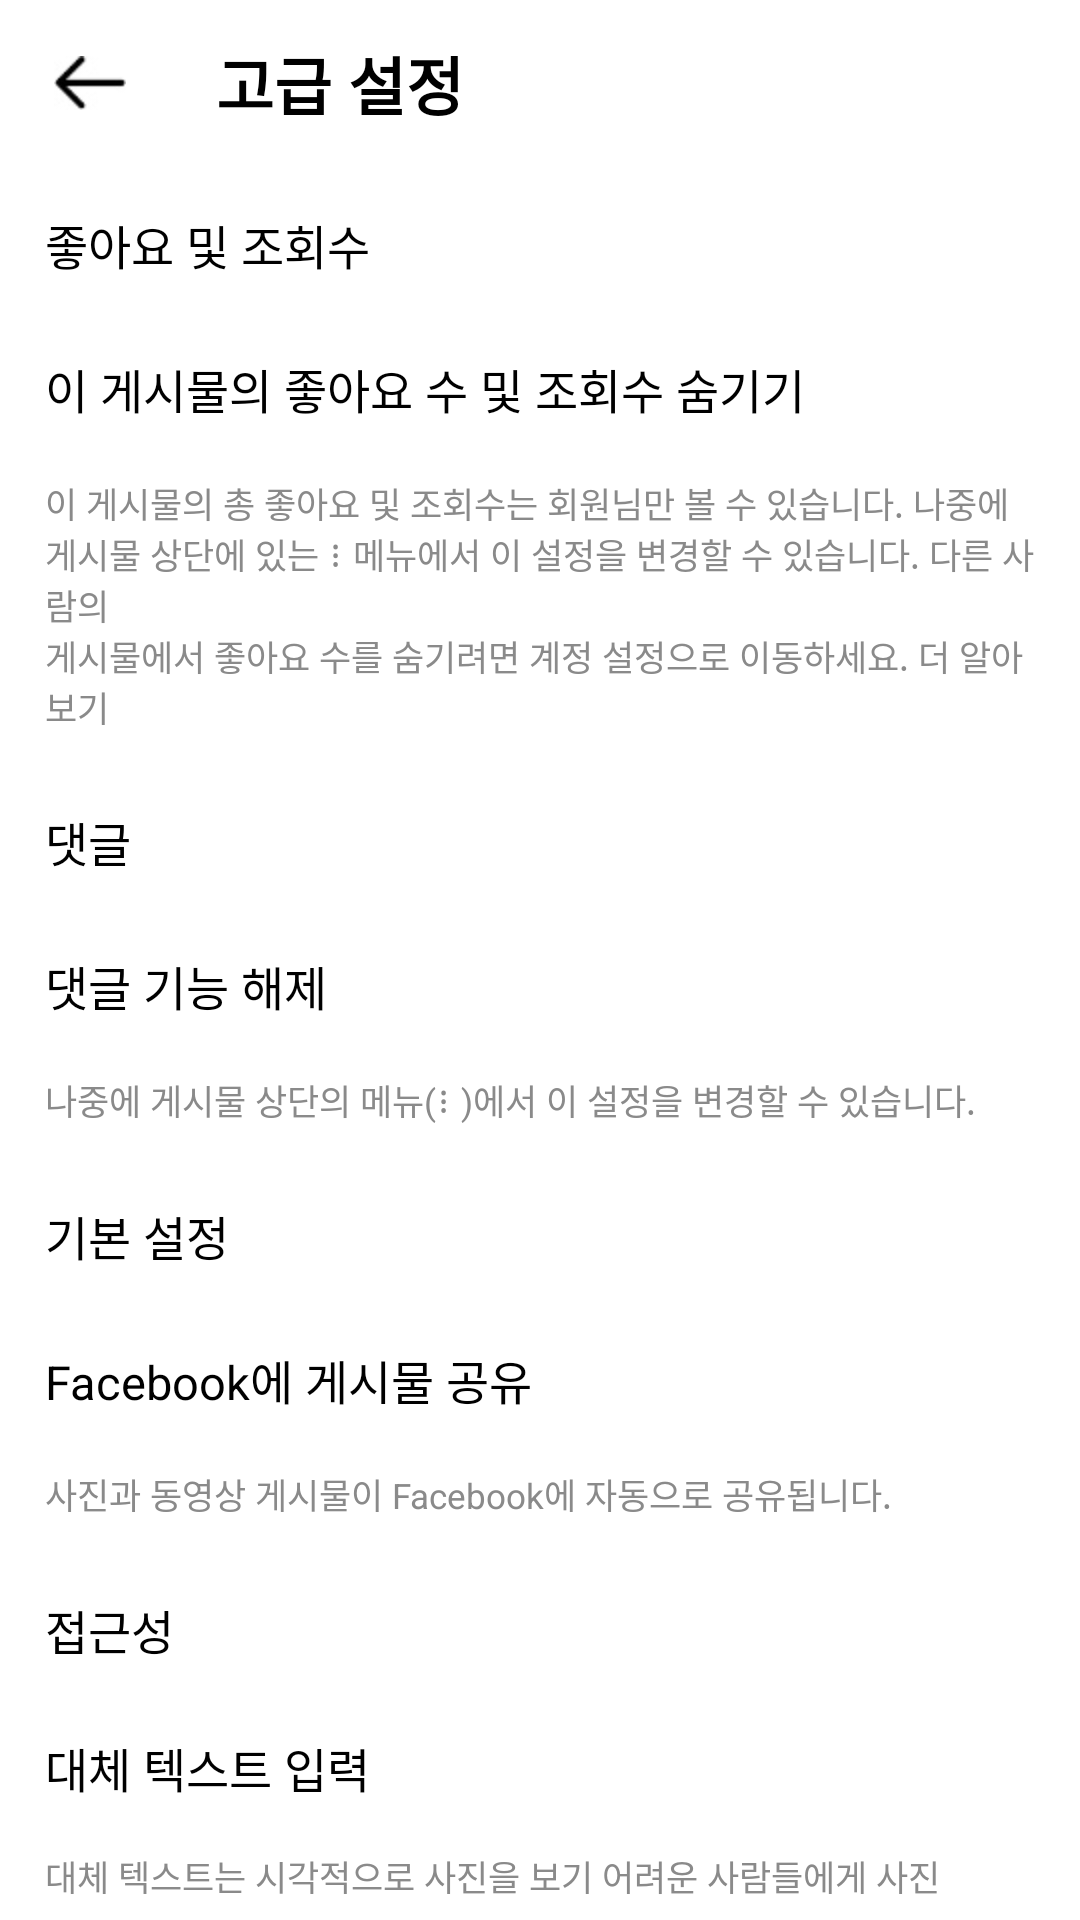

Icon bounding boxes for this 1080*1920 phone screenshot, format rect(x1, y1, x2, y2):
back: rect(54, 56, 126, 110)
